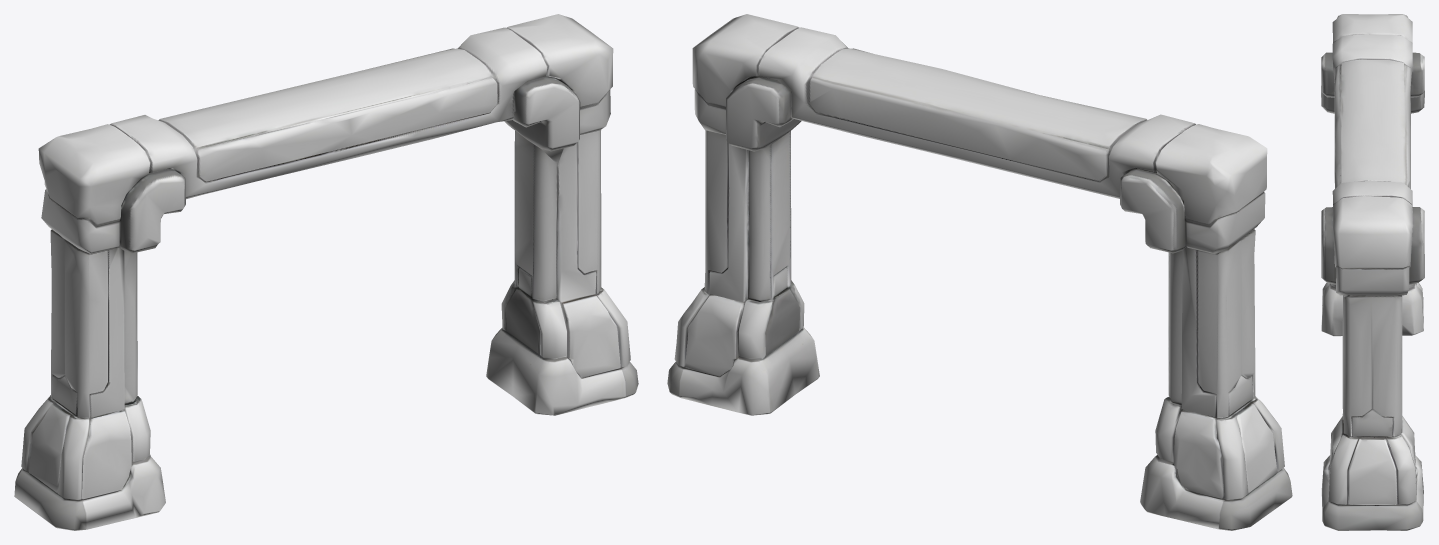
File: gate.glb
The picture shows the model from 3 angles, left to right: view 1: azimuth 30°, elevation 25°; view 2: azimuth 150°, elevation 25°; view 3: azimuth 270°, elevation 25°; orthographic projection. The views are drawn at different scales.
Parts seen in each view (by area): view 1: tripo_node_fa114a19-7a76-4a6e-acec-0d87bfeeda5d; view 2: tripo_node_fa114a19-7a76-4a6e-acec-0d87bfeeda5d; view 3: tripo_node_fa114a19-7a76-4a6e-acec-0d87bfeeda5d.
Boxes of the visible parts, x1,y1,x2,y2 form: tripo_node_fa114a19-7a76-4a6e-acec-0d87bfeeda5d: (14, 14, 638, 530); tripo_node_fa114a19-7a76-4a6e-acec-0d87bfeeda5d: (667, 14, 1292, 530); tripo_node_fa114a19-7a76-4a6e-acec-0d87bfeeda5d: (1321, 14, 1424, 530).
Size of the model in its own units: 0.9786 by 0.5701 by 0.1801.
1 material, 1 textured.
